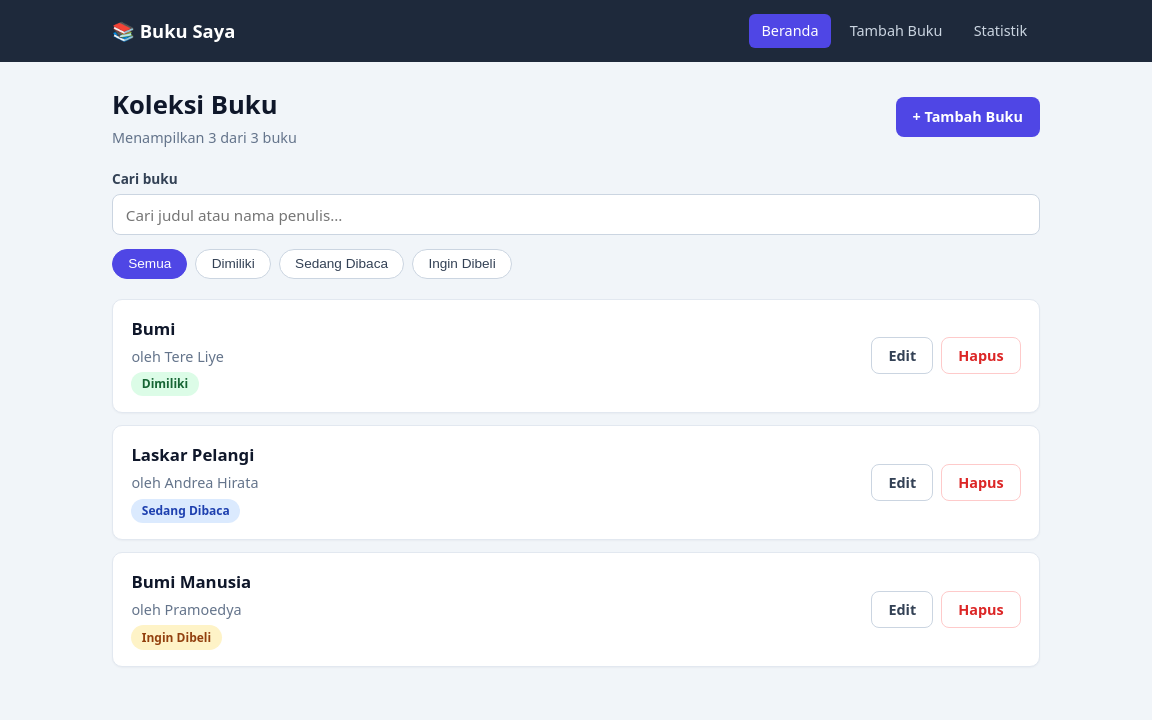
Test case: Aplikasi manajemen buku (integrasi) › memfilter buku berdasarkan status
Click the button "Ingin Dibeli": point(462, 264) [412,249,512,278]
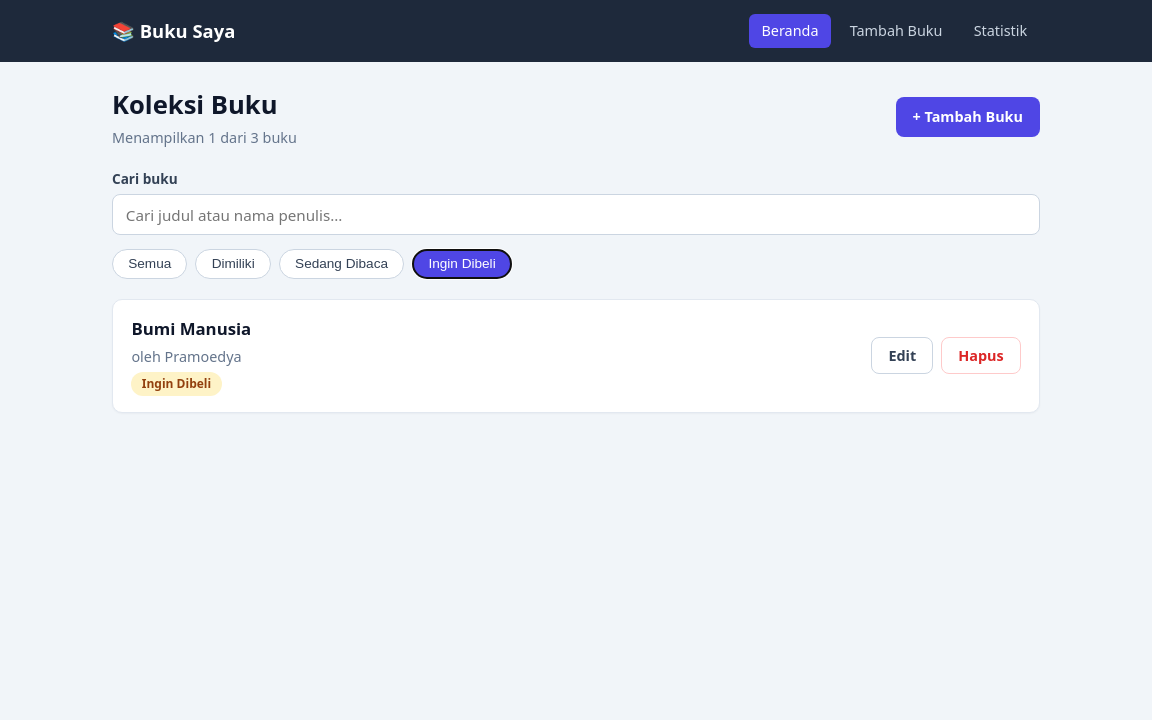
Expected: the heading "Bumi Manusia" is shown, [131,316,251,341]
Expected: the heading "Laskar Pelangi" is gone
